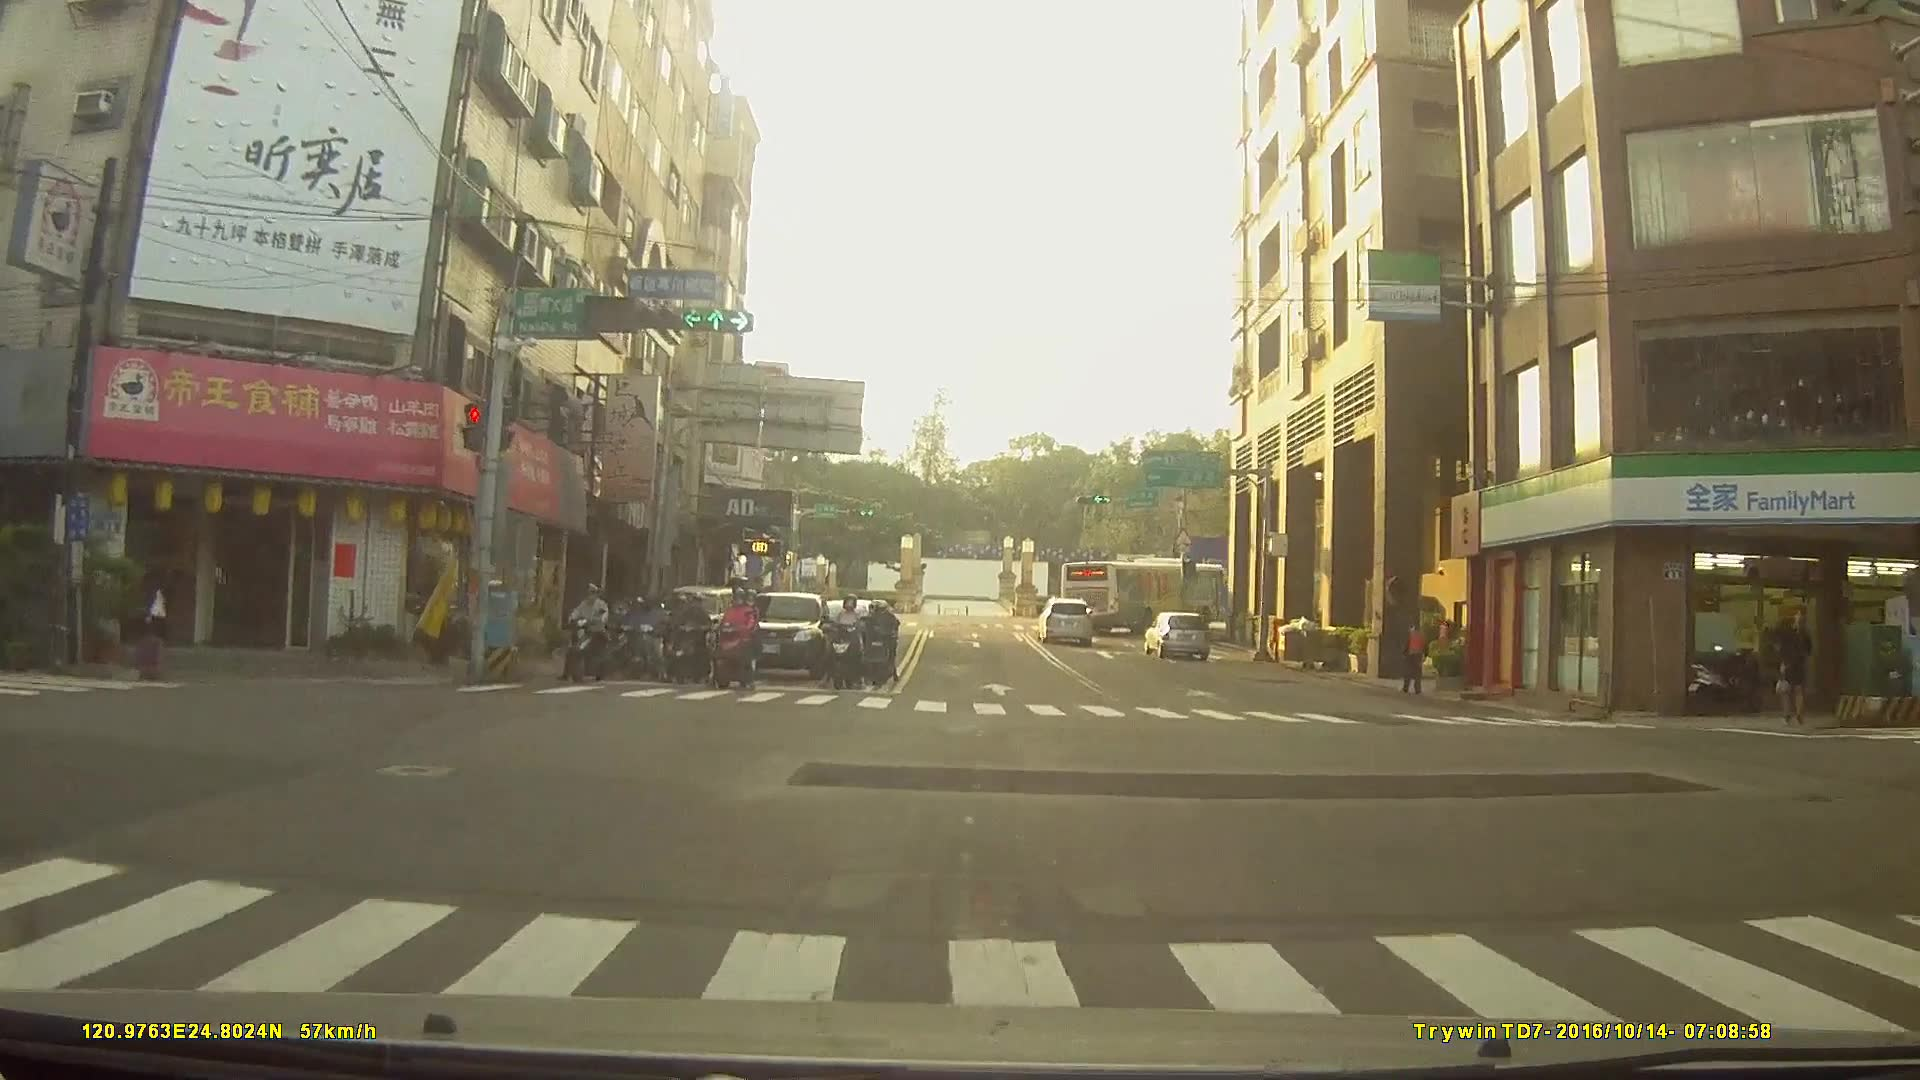pedestrian: (132, 565, 177, 695), (1777, 603, 1821, 732), (1399, 624, 1431, 697)
rider: (708, 584, 765, 694), (566, 581, 611, 681), (826, 596, 867, 694), (616, 601, 659, 688), (668, 596, 706, 690), (863, 609, 903, 694)
vehicle: (1058, 559, 1225, 634), (728, 588, 831, 681), (1140, 610, 1210, 659), (1036, 599, 1095, 650)
